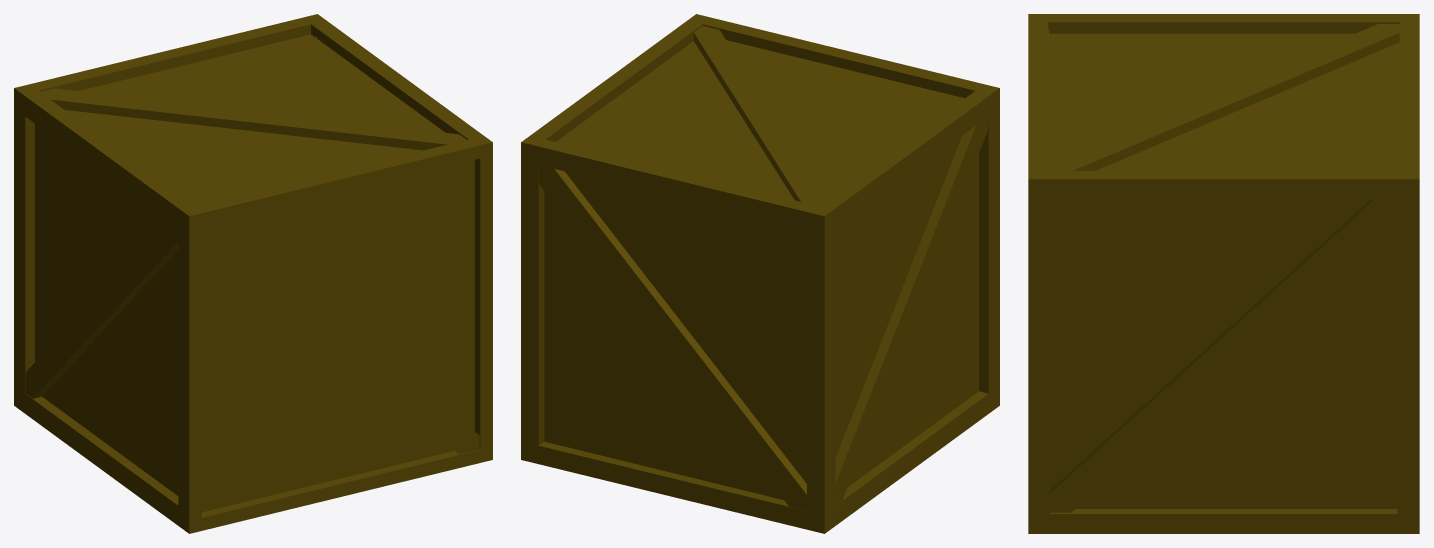
File: Crate_Fermer.fbx
3 renders of one model, left to right at view 1: azimuth 30°, elevation 25°; view 2: azimuth 150°, elevation 25°; view 3: azimuth 270°, elevation 25°, orthographic. The views are drawn at different scales.
Visible parts, largest first — view 1: Boite_Fermer; view 2: Boite_Fermer; view 3: Boite_Fermer.
Boxes of the visible parts, x1,y1,x2,y2 form: Boite_Fermer: (14, 14, 492, 533); Boite_Fermer: (521, 14, 999, 533); Boite_Fermer: (1028, 14, 1419, 533).
Size of the model in its own units: 200 by 200 by 200.
